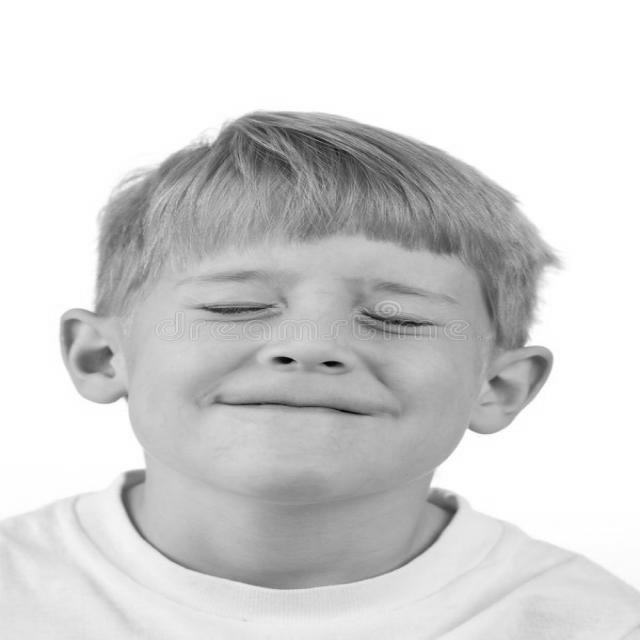real: (57, 105, 556, 508), (155, 262, 465, 348)
